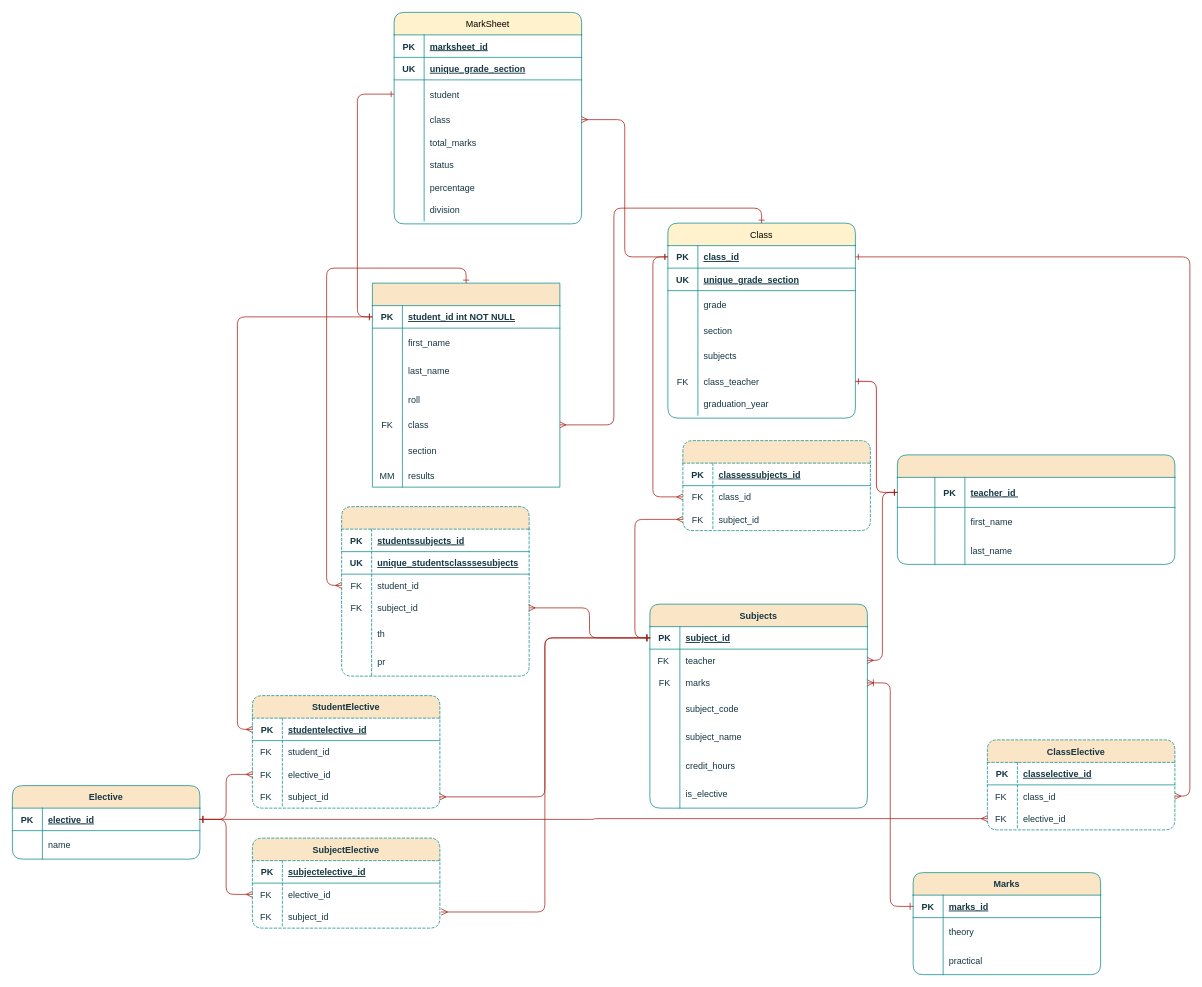
This 1202x987 diagram has some shape labels left out. Here are the shapes that lost their labels. From the top down, the box of each, then its label:
(372, 282, 560, 487): Students
(682, 440, 870, 531): ClassSubject
(897, 454, 1175, 564): Teachers
(341, 506, 529, 676): StudentSubject
